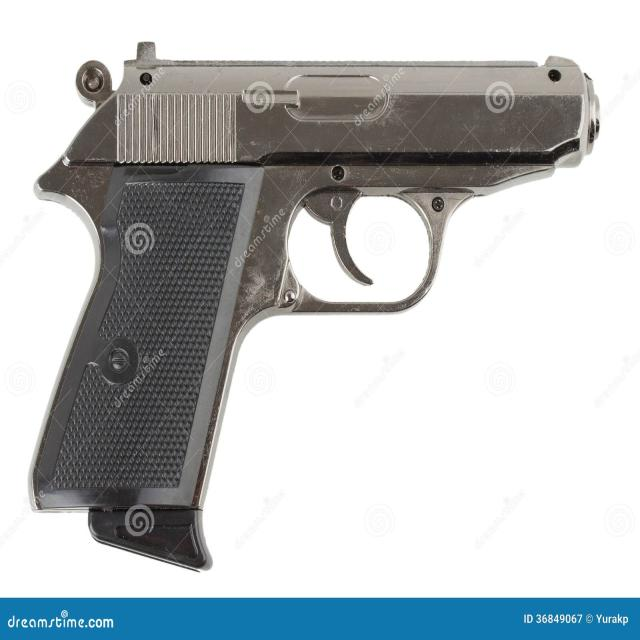handgun: (32, 47, 600, 570)
